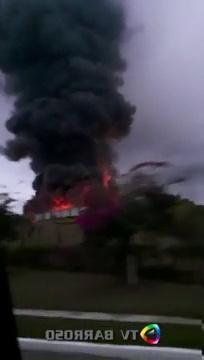smoke: (7, 4, 124, 135)
